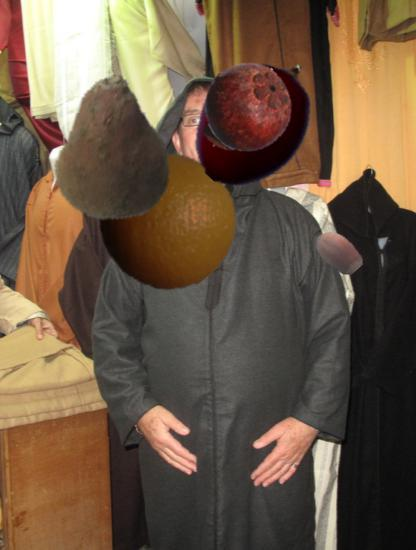Hazelnut: (312, 226, 364, 278)
Mangostan: (197, 61, 295, 159)
Orange: (95, 149, 237, 291)
Potato: (44, 74, 194, 224)
Tamarillo: (183, 50, 327, 194)
